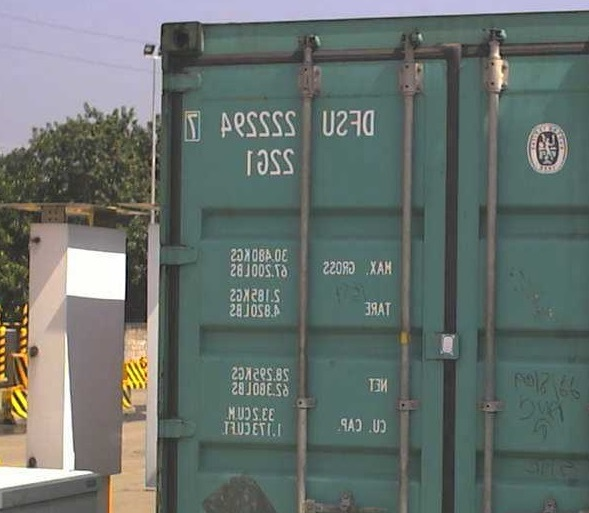container_door: (156, 20, 585, 513)
